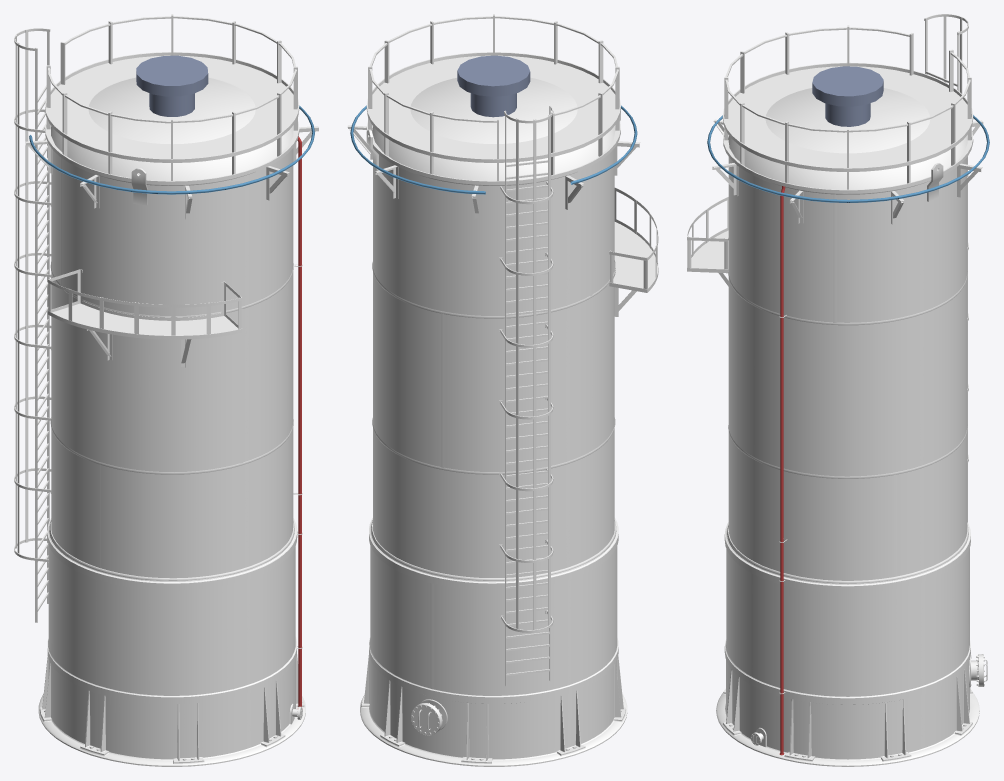
The picture shows the model from 3 angles, left to right: view 1: azimuth 30°, elevation 25°; view 2: azimuth 150°, elevation 25°; view 3: azimuth 270°, elevation 25°; orthographic projection.
Visible parts, largest first — view 1: SM_H_Industrial_Mechanical_MetalSilo_03c; view 2: SM_H_Industrial_Mechanical_MetalSilo_03c; view 3: SM_H_Industrial_Mechanical_MetalSilo_03c.
Part boxes in pixels (x1,y1,x2,y2): SM_H_Industrial_Mechanical_MetalSilo_03c: (14, 14, 318, 766); SM_H_Industrial_Mechanical_MetalSilo_03c: (347, 14, 658, 766); SM_H_Industrial_Mechanical_MetalSilo_03c: (687, 14, 989, 766).
Size of the model in its own units: 273 by 269 by 643.
